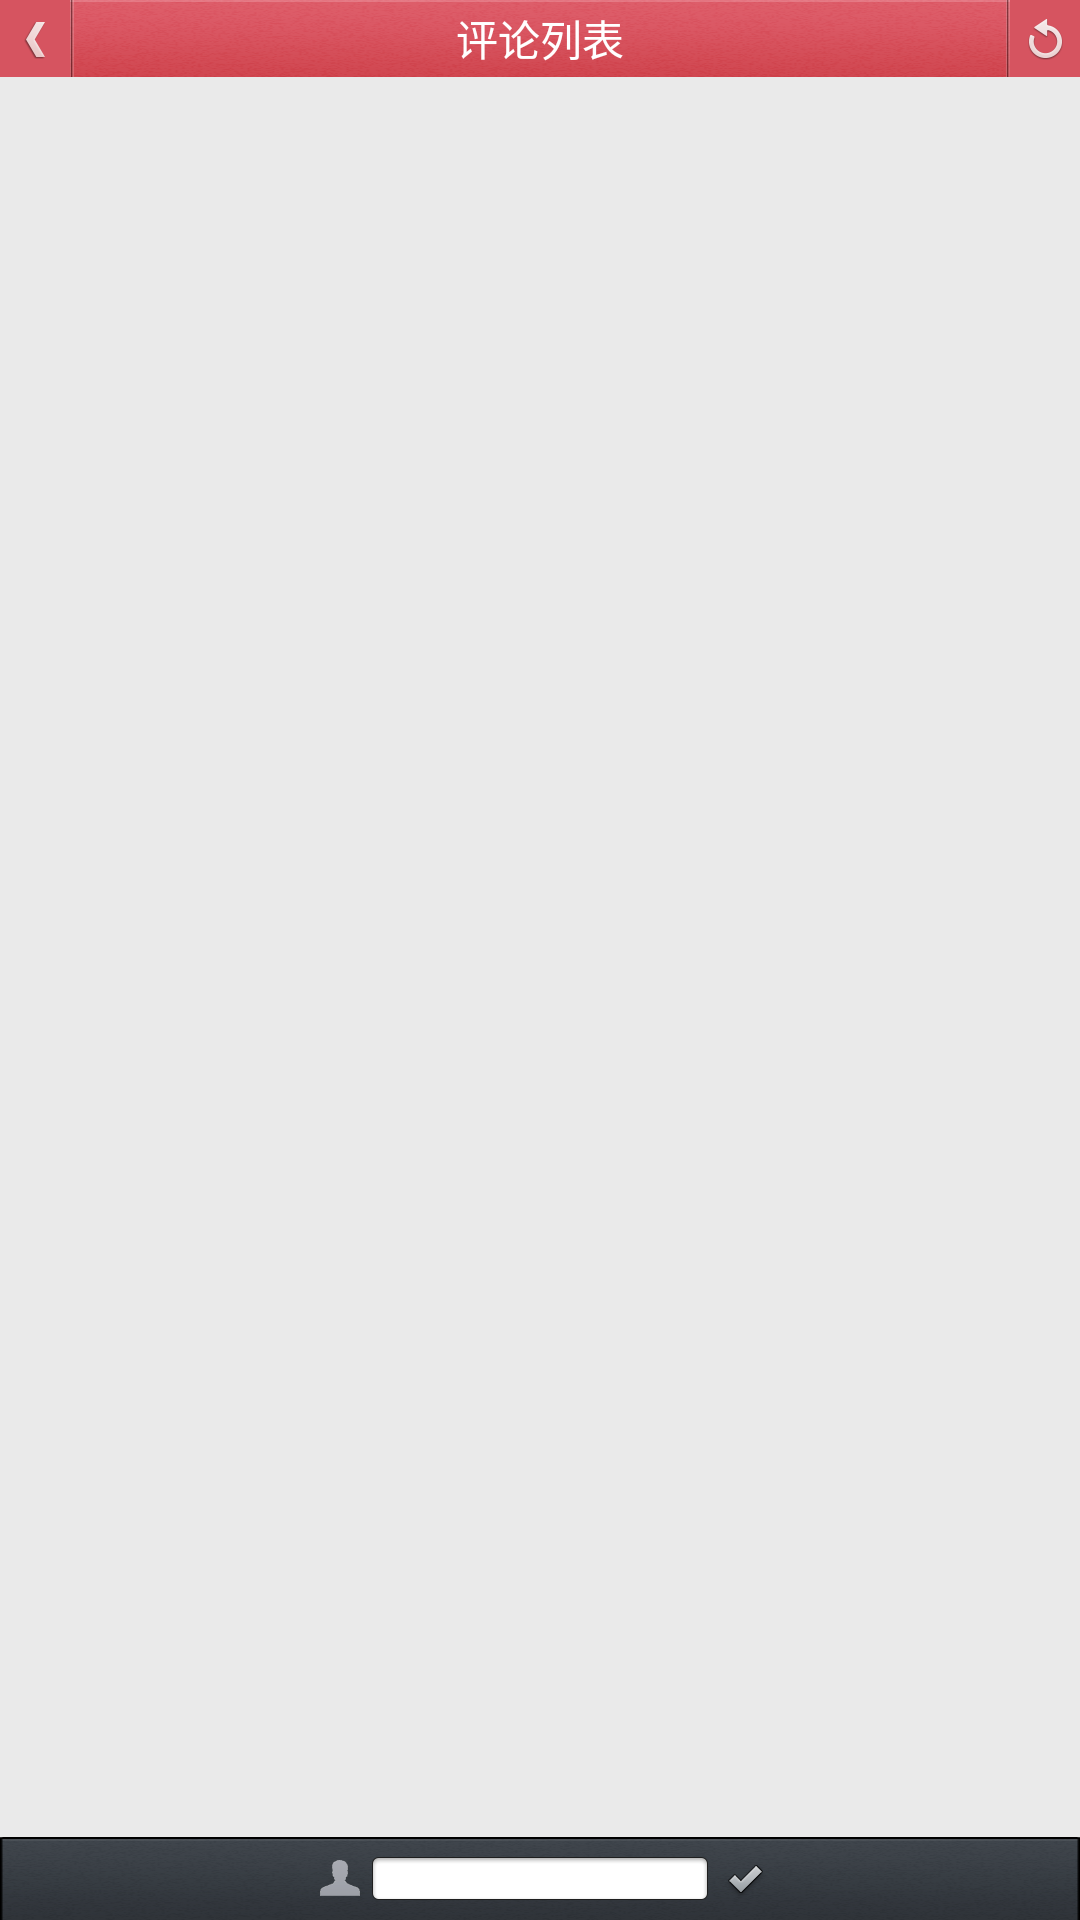

Screen size 1080*1920. Icon name, then its center in pixels as point (x, y):
public back: point (35, 38)
public head pic: point (340, 1878)
public refresh: point (1045, 38)
